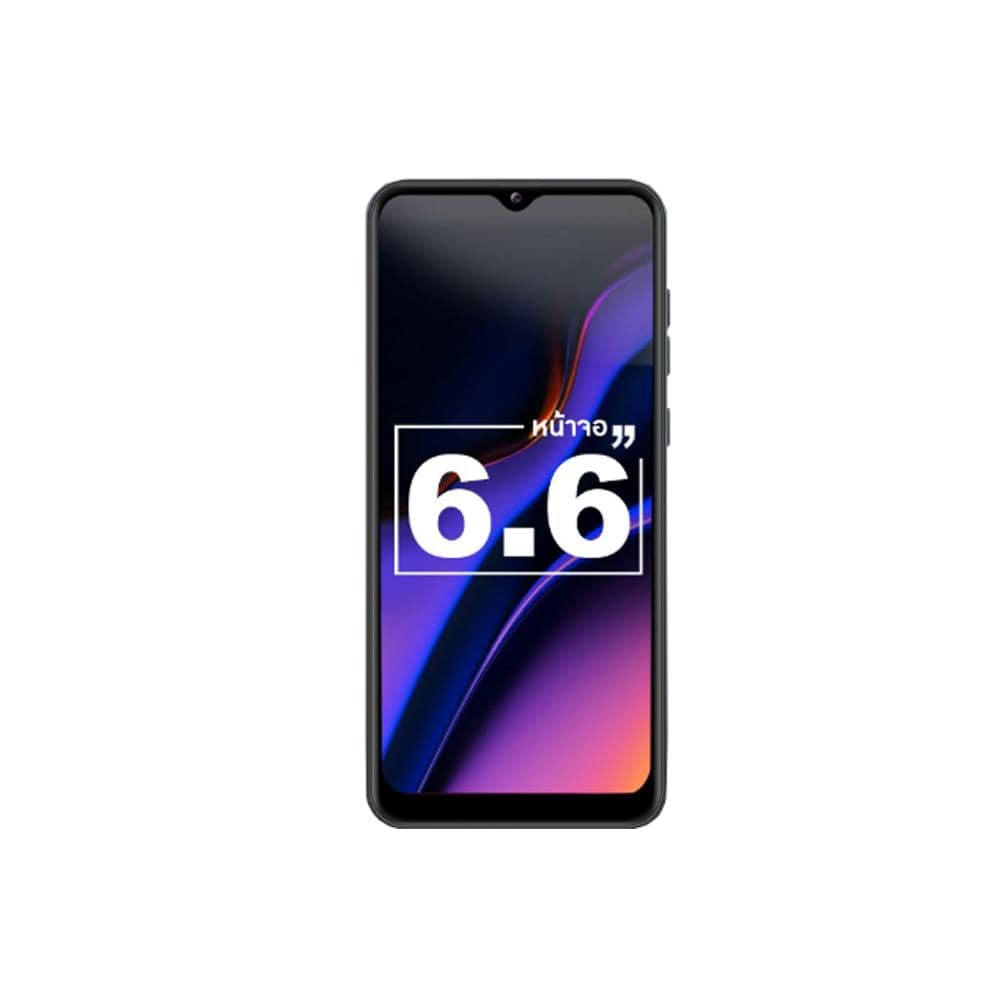Phone: (360, 174, 671, 834)
